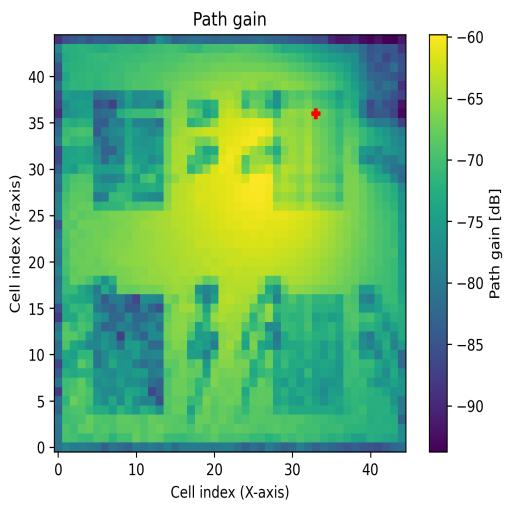Concrete: (274, 90, 344, 210)
Glass: (93, 90, 171, 210)
Metal: (275, 296, 344, 415)
Wood: (92, 294, 164, 414)
